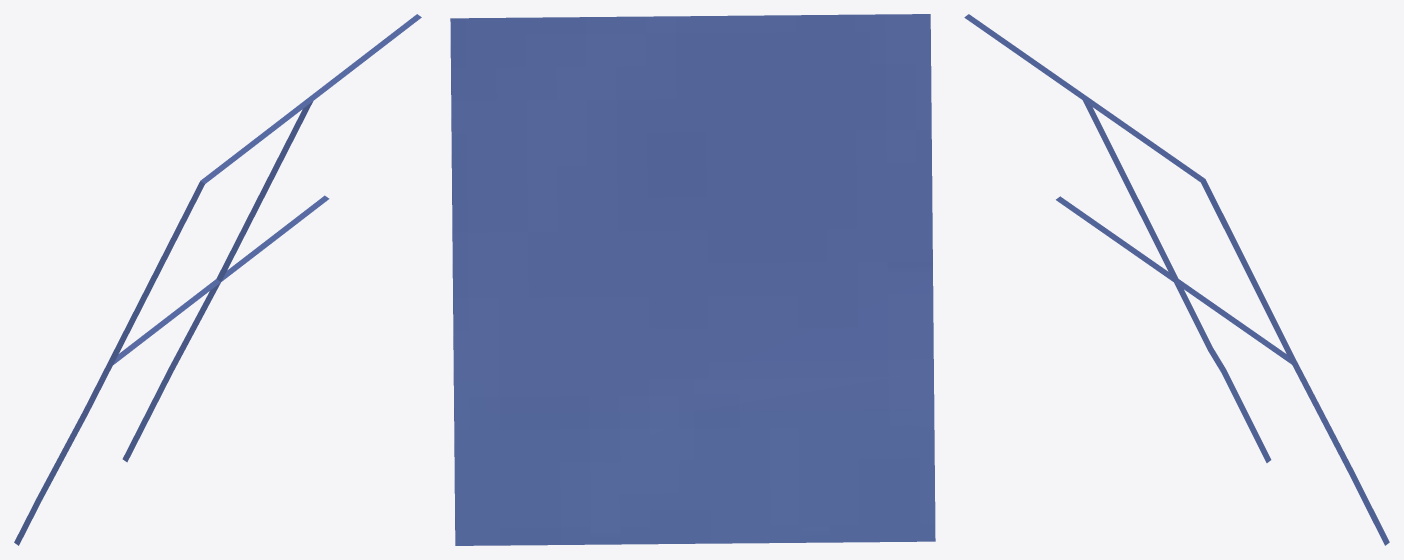
3 renders of one model, left to right at view 1: azimuth 30°, elevation 25°; view 2: azimuth 150°, elevation 25°; view 3: azimuth 270°, elevation 25°, orthographic. The views are drawn at different scales.
Size of the model in its own units: 4909 by 4429 by 4137.
Materials: 1 (1 with a texture image).
